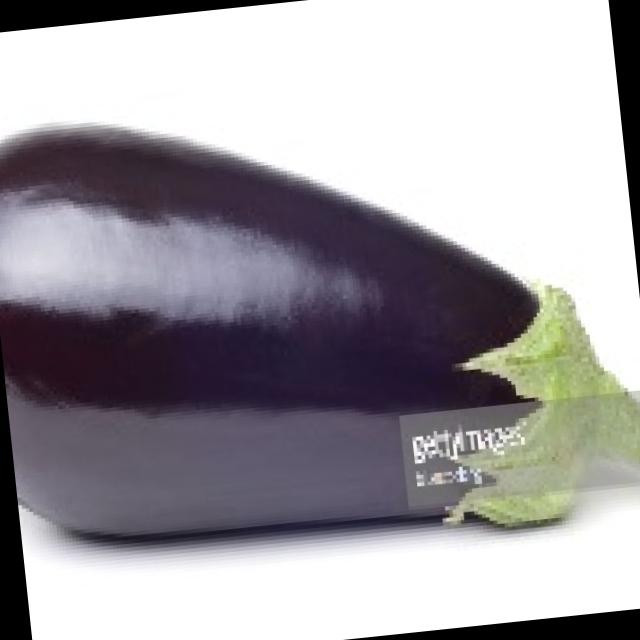eggplant: (0, 63, 621, 599)
